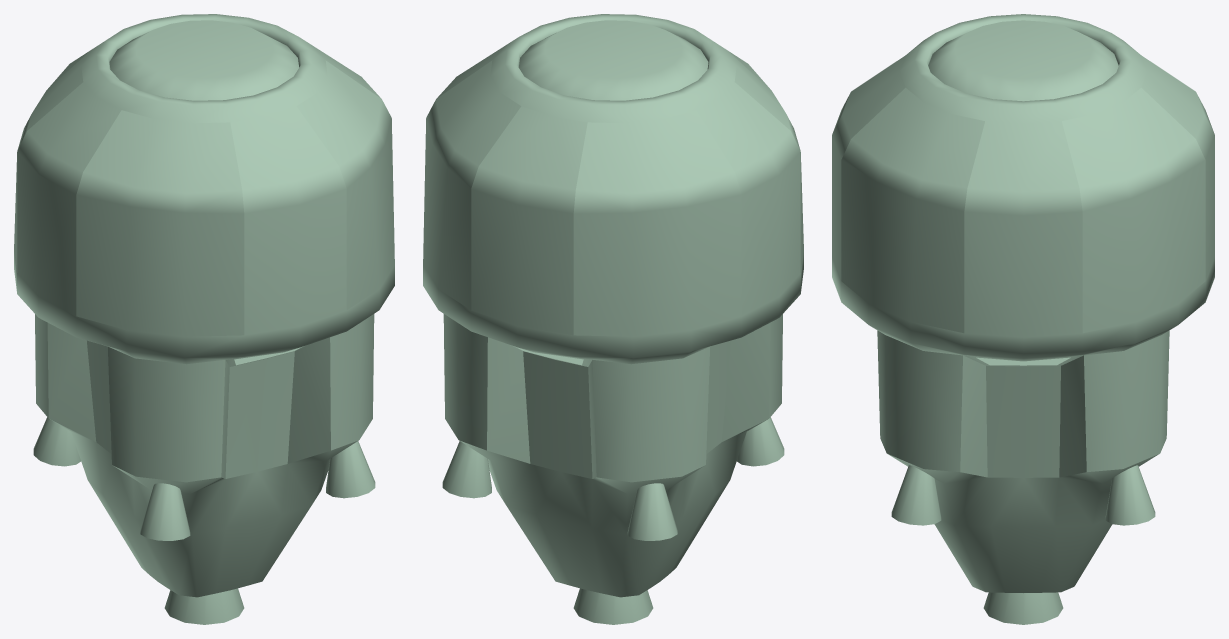
The model's file is REENTRY_CRAFT_BODY_noHOLES_LOD.fbx.
The picture shows the model from 3 angles, left to right: view 1: azimuth 30°, elevation 25°; view 2: azimuth 150°, elevation 25°; view 3: azimuth 270°, elevation 25°; orthographic projection.
Visible parts, largest first — view 1: POD_BOD_NOHOLES_LOD1_GEO; view 2: POD_BOD_NOHOLES_LOD1_GEO; view 3: POD_BOD_NOHOLES_LOD1_GEO.
Boxes of the visible parts, box(x1,y1,x2,y2) form: POD_BOD_NOHOLES_LOD1_GEO: box(14, 14, 394, 624); POD_BOD_NOHOLES_LOD1_GEO: box(423, 14, 803, 624); POD_BOD_NOHOLES_LOD1_GEO: box(832, 14, 1214, 624).
Bounding box in the file's own units: 5.8 × 9.33 × 5.8.
